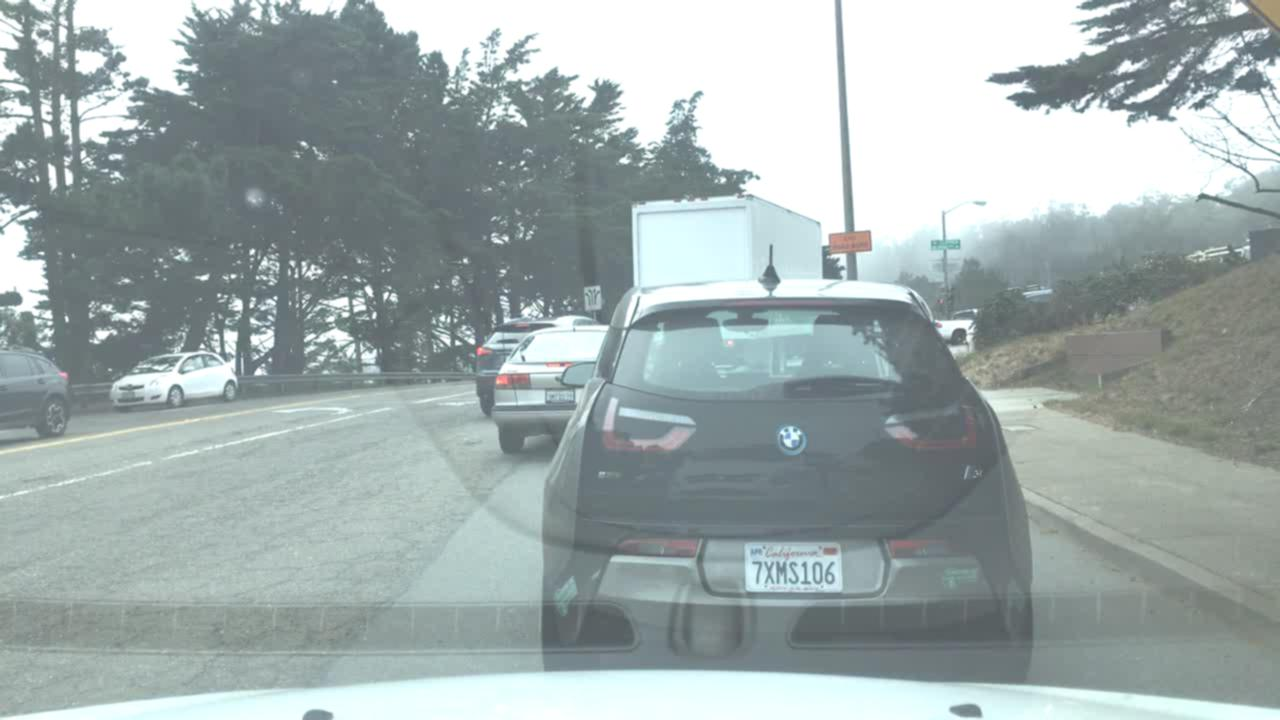bmw: (765, 408, 815, 461)
